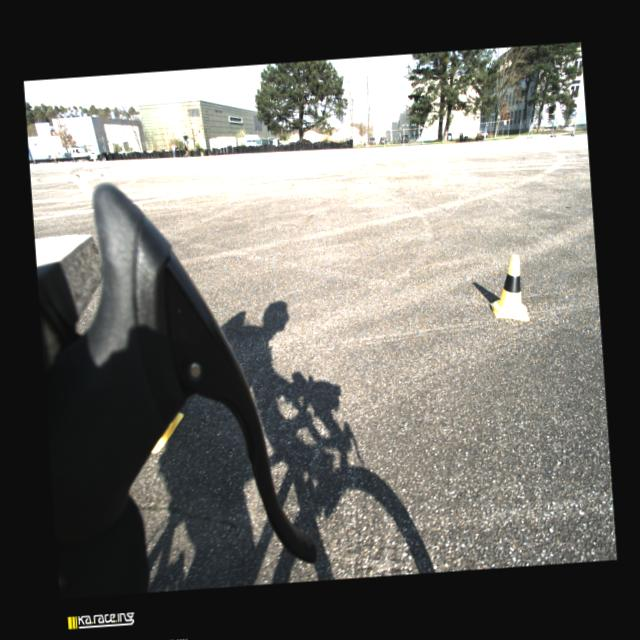yellow_cone: (486, 254, 529, 323)
